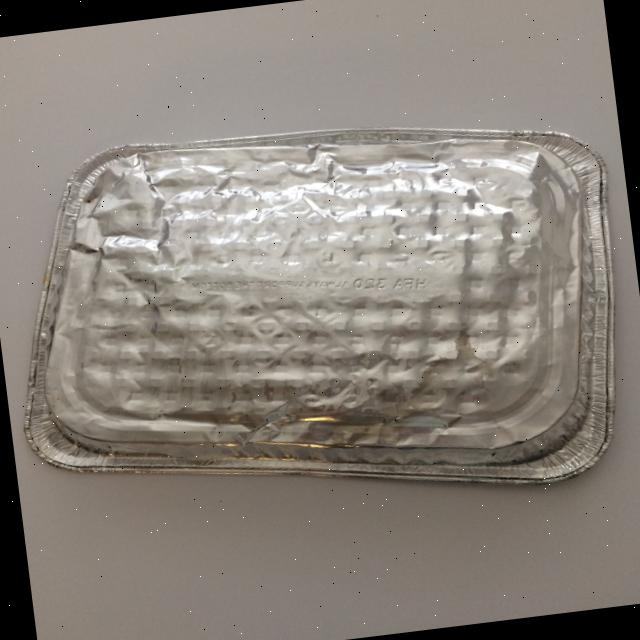metal: (0, 85, 640, 545)
